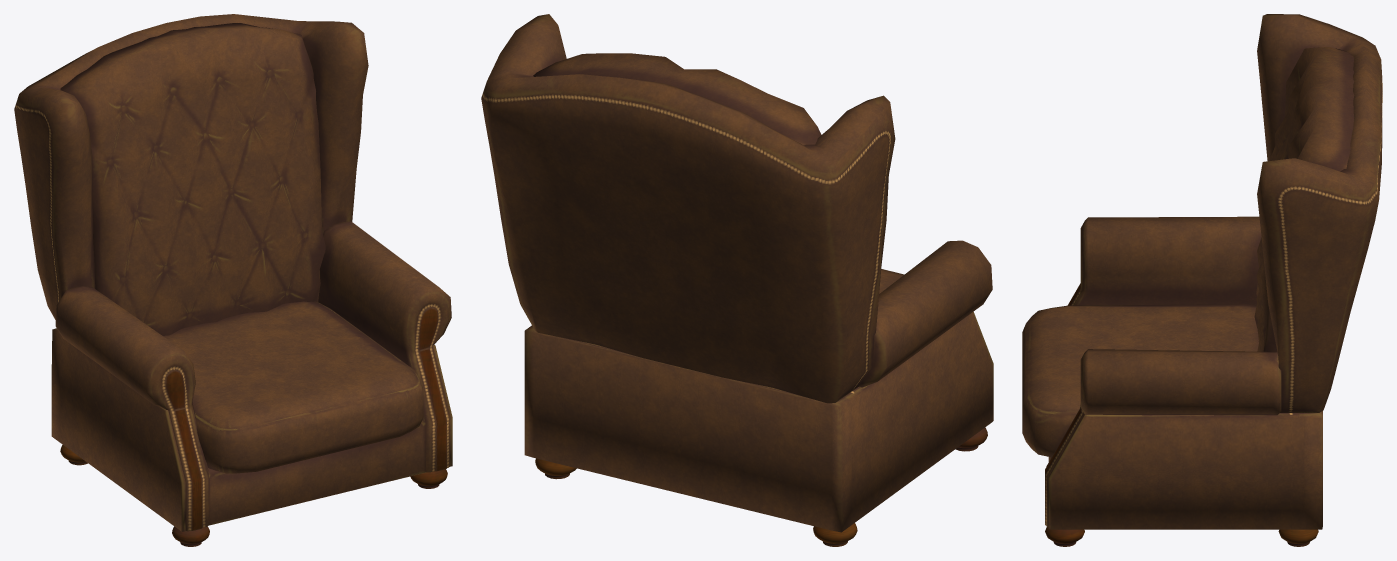
File: ChairB.FBX
3 renders of one model, left to right at view 1: azimuth 30°, elevation 25°; view 2: azimuth 150°, elevation 25°; view 3: azimuth 270°, elevation 25°, orthographic. The views are drawn at different scales.
Parts seen in each view (by area): view 1: ChairB; view 2: ChairB; view 3: ChairB.
Part boxes in pixels (x1,y1,x2,y2): ChairB: (14, 14, 452, 546); ChairB: (481, 14, 993, 546); ChairB: (1022, 14, 1382, 546).
Size of the model in its own units: 124 by 144 by 117.
1 material, 1 textured.
